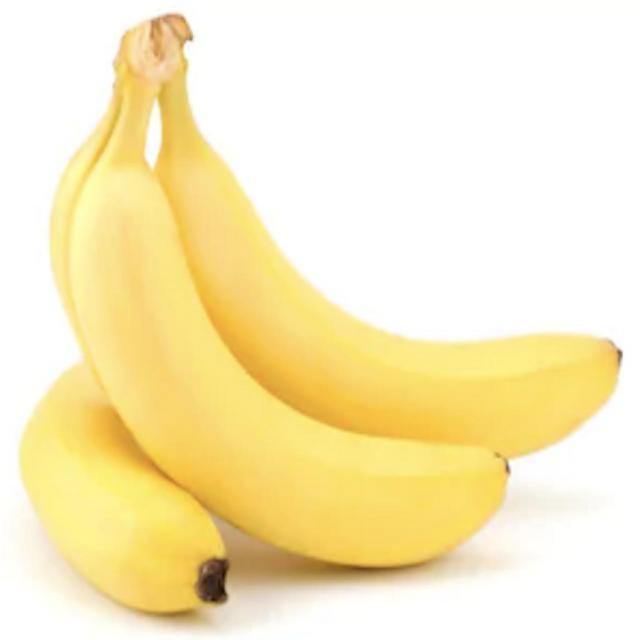banana: (57, 25, 557, 639), (147, 34, 638, 502)
